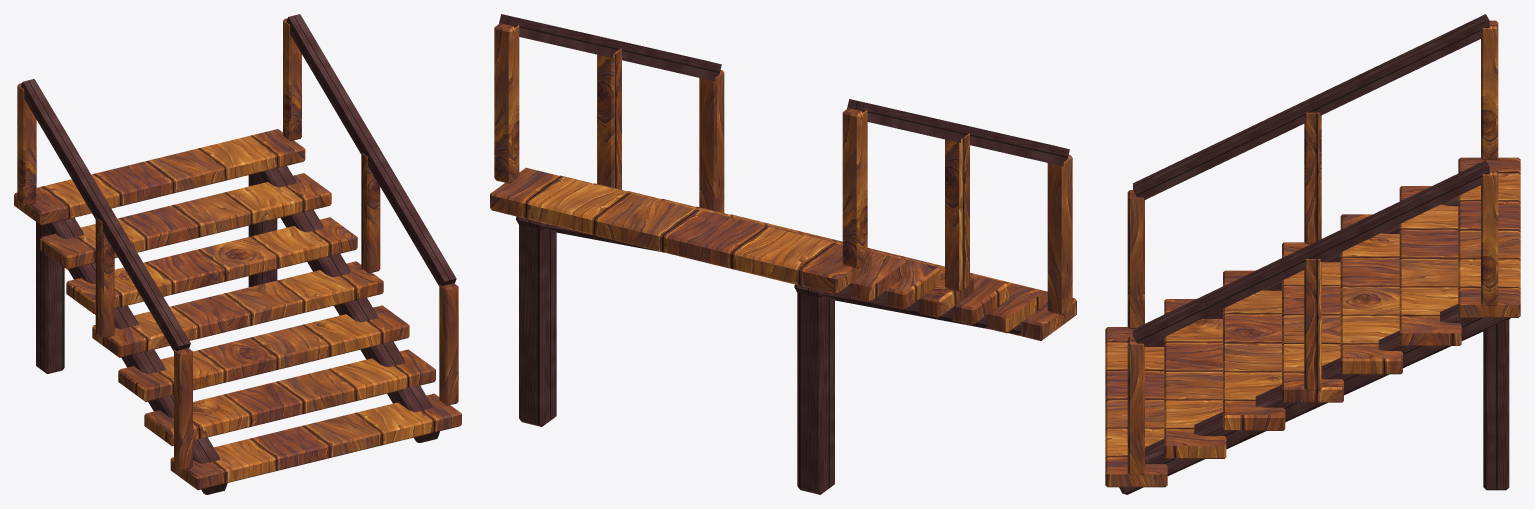
File: Wooden_Stairs.fbx
3 views of the same model, side by side, from view 1: azimuth 30°, elevation 25°; view 2: azimuth 150°, elevation 25°; view 3: azimuth 270°, elevation 25° (orthographic). The views are drawn at different scales.
Parts seen in each view (by area): view 1: Wooden stair plank, Wooden stair plank.006, Wooden stair plank.001, Wooden stair plank.002, Wooden stair plank.003, Wooden stair plank.005, Wooden stair plank.004, Sloping stair handrail, Sloping stair handrail.001, Stair supporting stringer.001, Stair upper support, Stair supporting stringer (+7 smaller); view 2: Wooden stair plank.006, Stair upper support, Stair upper support.001, Stair handrail post.002, Stair handrail post.005, Sloping stair handrail, Sloping stair handrail.001, Stair handrail post, Stair handrail post.001, Stair handrail post.003, Stair handrail post.004, Wooden stair plank.004 (+7 smaller); view 3: Wooden stair plank.004, Wooden stair plank.005, Sloping stair handrail.001, Sloping stair handrail, Wooden stair plank.002, Wooden stair plank.001, Wooden stair plank.006, Wooden stair plank, Wooden stair plank.003, Stair supporting stringer.001, Stair upper support.001, Stair handrail post.002 (+6 smaller).
Boxes of the visible parts, x1,y1,x2,y2 form: Wooden stair plank: (170,393,461,490); Wooden stair plank.006: (14,129,305,225); Wooden stair plank.001: (144,349,435,445); Wooden stair plank.002: (118,305,409,401); Wooden stair plank.003: (92,261,383,357); Wooden stair plank.005: (40,173,331,269); Wooden stair plank.004: (66,217,357,313); Sloping stair handrail: (21,79,190,351); Sloping stair handrail.001: (286,14,456,286); Stair supporting stringer.001: (254,166,439,442); Stair upper support: (36,222,64,373); Stair supporting stringer: (41,217,227,494); Wooden stair plank.006: (490,167,871,294); Stair upper support: (797,292,834,494); Stair upper support.001: (519,224,556,426); Stair handrail post.002: (842,108,867,268); Stair handrail post.005: (494,23,519,183); Sloping stair handrail: (847,99,1069,166); Sloping stair handrail.001: (499,14,721,81); Stair handrail post: (1047,155,1072,315); Stair handrail post.001: (945,133,969,291); Stair handrail post.003: (699,70,724,212); Stair handrail post.004: (597,48,621,189); Wooden stair plank.004: (594,183,940,309); Wooden stair plank.004: (1340,214,1402,374); Wooden stair plank.005: (1399,186,1461,345); Sloping stair handrail.001: (1133,160,1489,346); Sloping stair handrail: (1133,14,1489,200); Wooden stair plank.002: (1223,270,1285,430); Wooden stair plank.001: (1164,299,1226,458); Wooden stair plank.006: (1458,157,1520,317); Wooden stair plank: (1105,327,1167,487); Wooden stair plank.003: (1282,242,1343,402); Stair supporting stringer.001: (1119,304,1510,494); Stair upper support.001: (1483,320,1509,490); Stair handrail post.002: (1481,20,1498,159).
Bounding box in the file's own units: 210 × 218 × 240.
